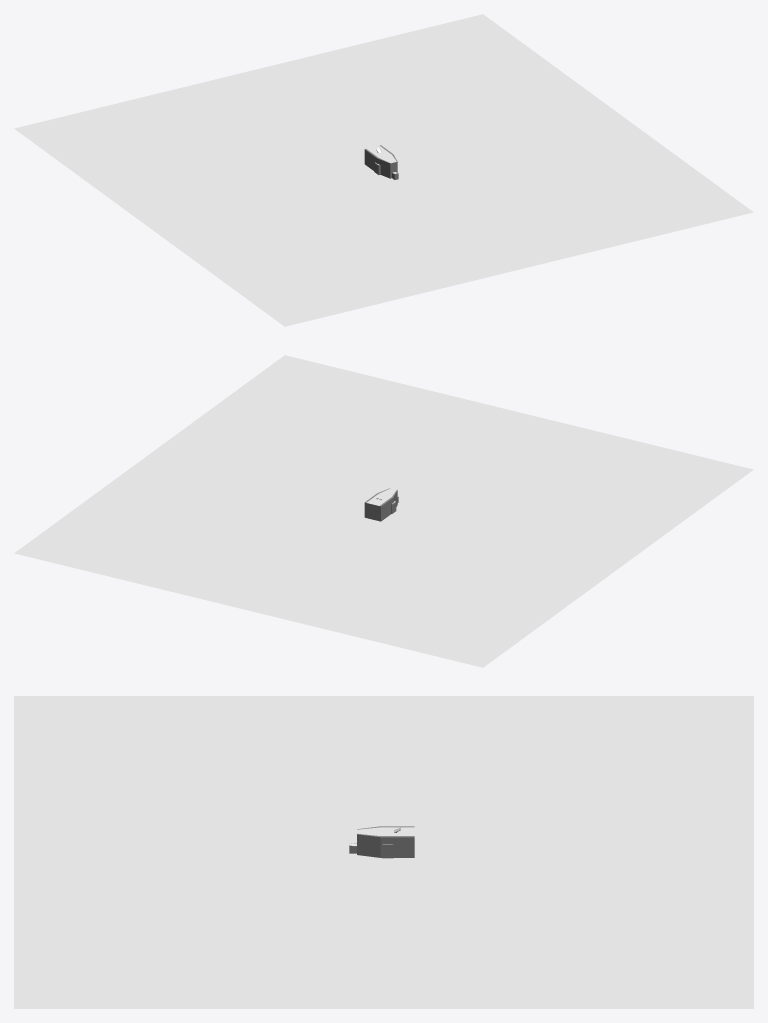
The model's file is intro_track.fbx.
The picture shows the model from 3 angles, top to bottom: view 1: azimuth 30°, elevation 25°; view 2: azimuth 150°, elevation 25°; view 3: azimuth 270°, elevation 25°; orthographic projection. The views are drawn at different scales.
Parts seen in each view (by area): view 1: oniric_water, startchunk; view 2: oniric_water, startchunk; view 3: oniric_water, startchunk.
Part boxes in pixels (left/top/right/bottom): oniric_water: left=14, top=14, right=753, bottom=326; startchunk: left=364, top=145, right=397, bottom=178; oniric_water: left=14, top=355, right=753, bottom=667; startchunk: left=364, top=488, right=397, bottom=521; oniric_water: left=14, top=696, right=753, bottom=1008; startchunk: left=357, top=826, right=414, bottom=857.
Size of what is drawn, in the model's own units: 311731 by 57322 by 311731.
